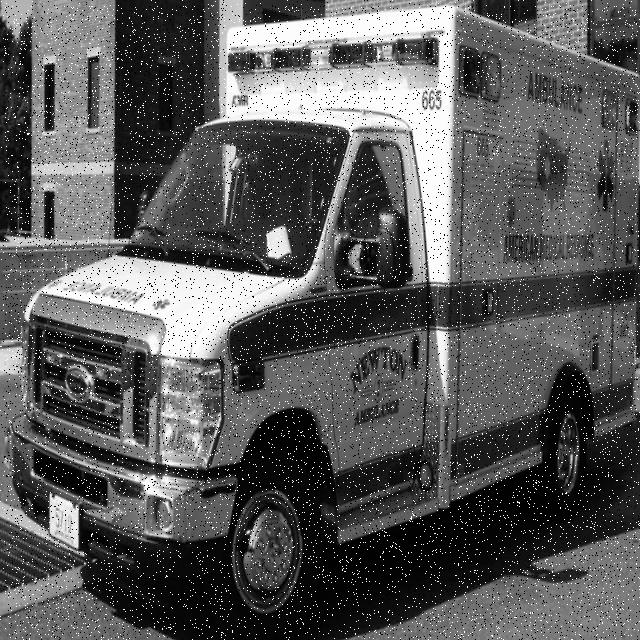Ambulance: (5, 6, 640, 640)
